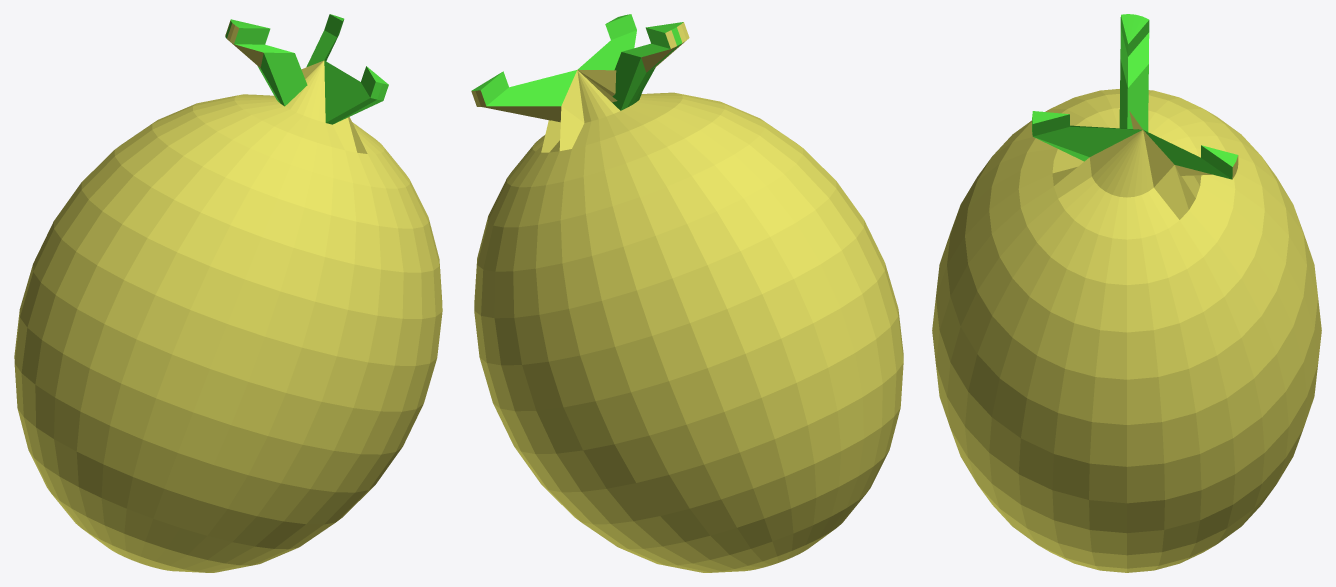
Rendered from Lemon.fbx.
The picture shows the model from 3 angles, left to right: view 1: azimuth 30°, elevation 25°; view 2: azimuth 150°, elevation 25°; view 3: azimuth 270°, elevation 25°; orthographic projection. The views are drawn at different scales.
Visible parts, largest first — view 1: Sphere.018; view 2: Sphere.018; view 3: Sphere.018.
Boxes of the visible parts, left/top/right/bottom form: Sphere.018: left=14, top=14, right=442, bottom=572; Sphere.018: left=471, top=14, right=903, bottom=572; Sphere.018: left=932, top=14, right=1321, bottom=572.
Size of the model in its own units: 2.64 by 3.44 by 2.21.
